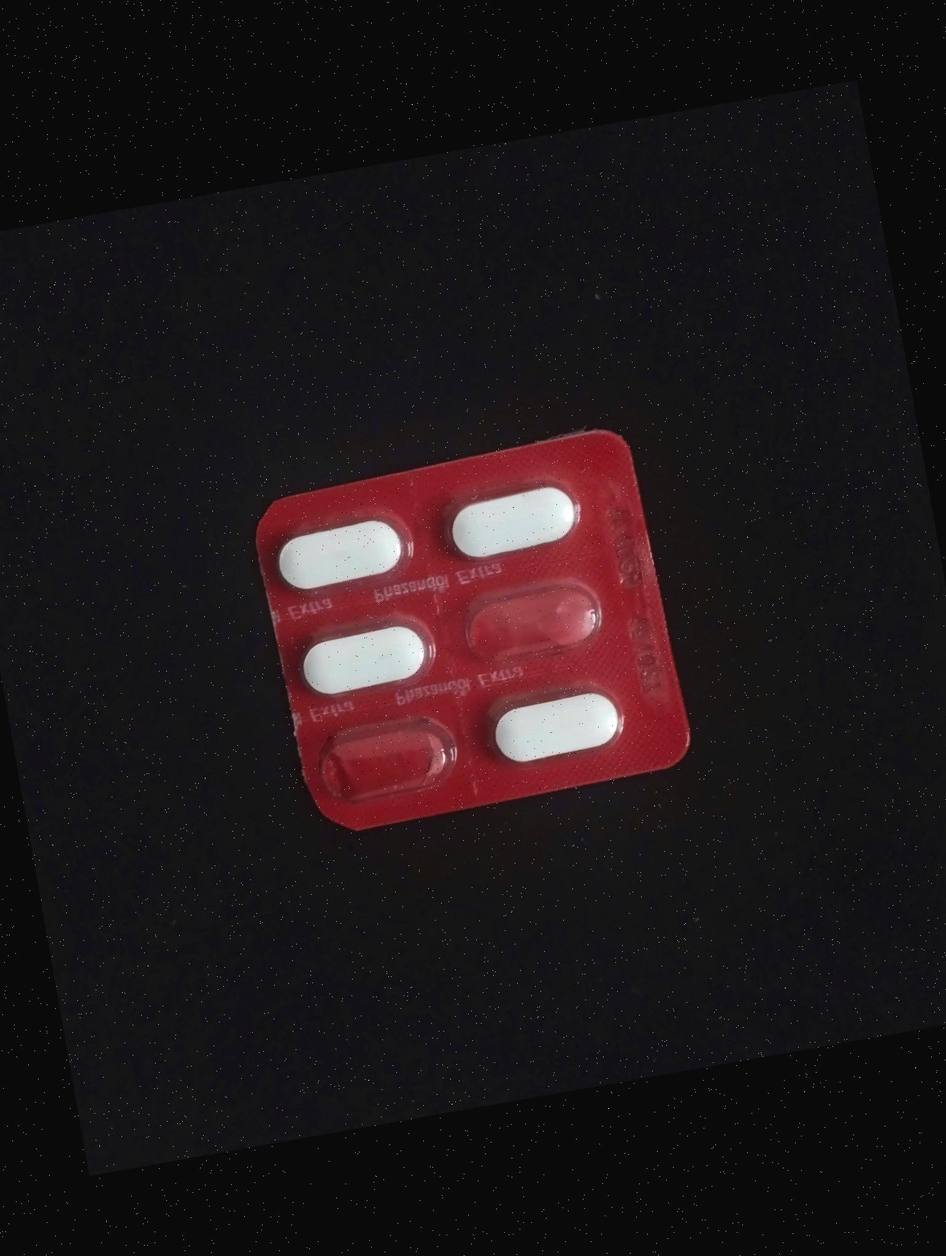Empty: (453, 567, 615, 671), (309, 713, 461, 814)
Full: (439, 478, 591, 574), (290, 605, 437, 702), (271, 504, 421, 599), (487, 680, 634, 773)
